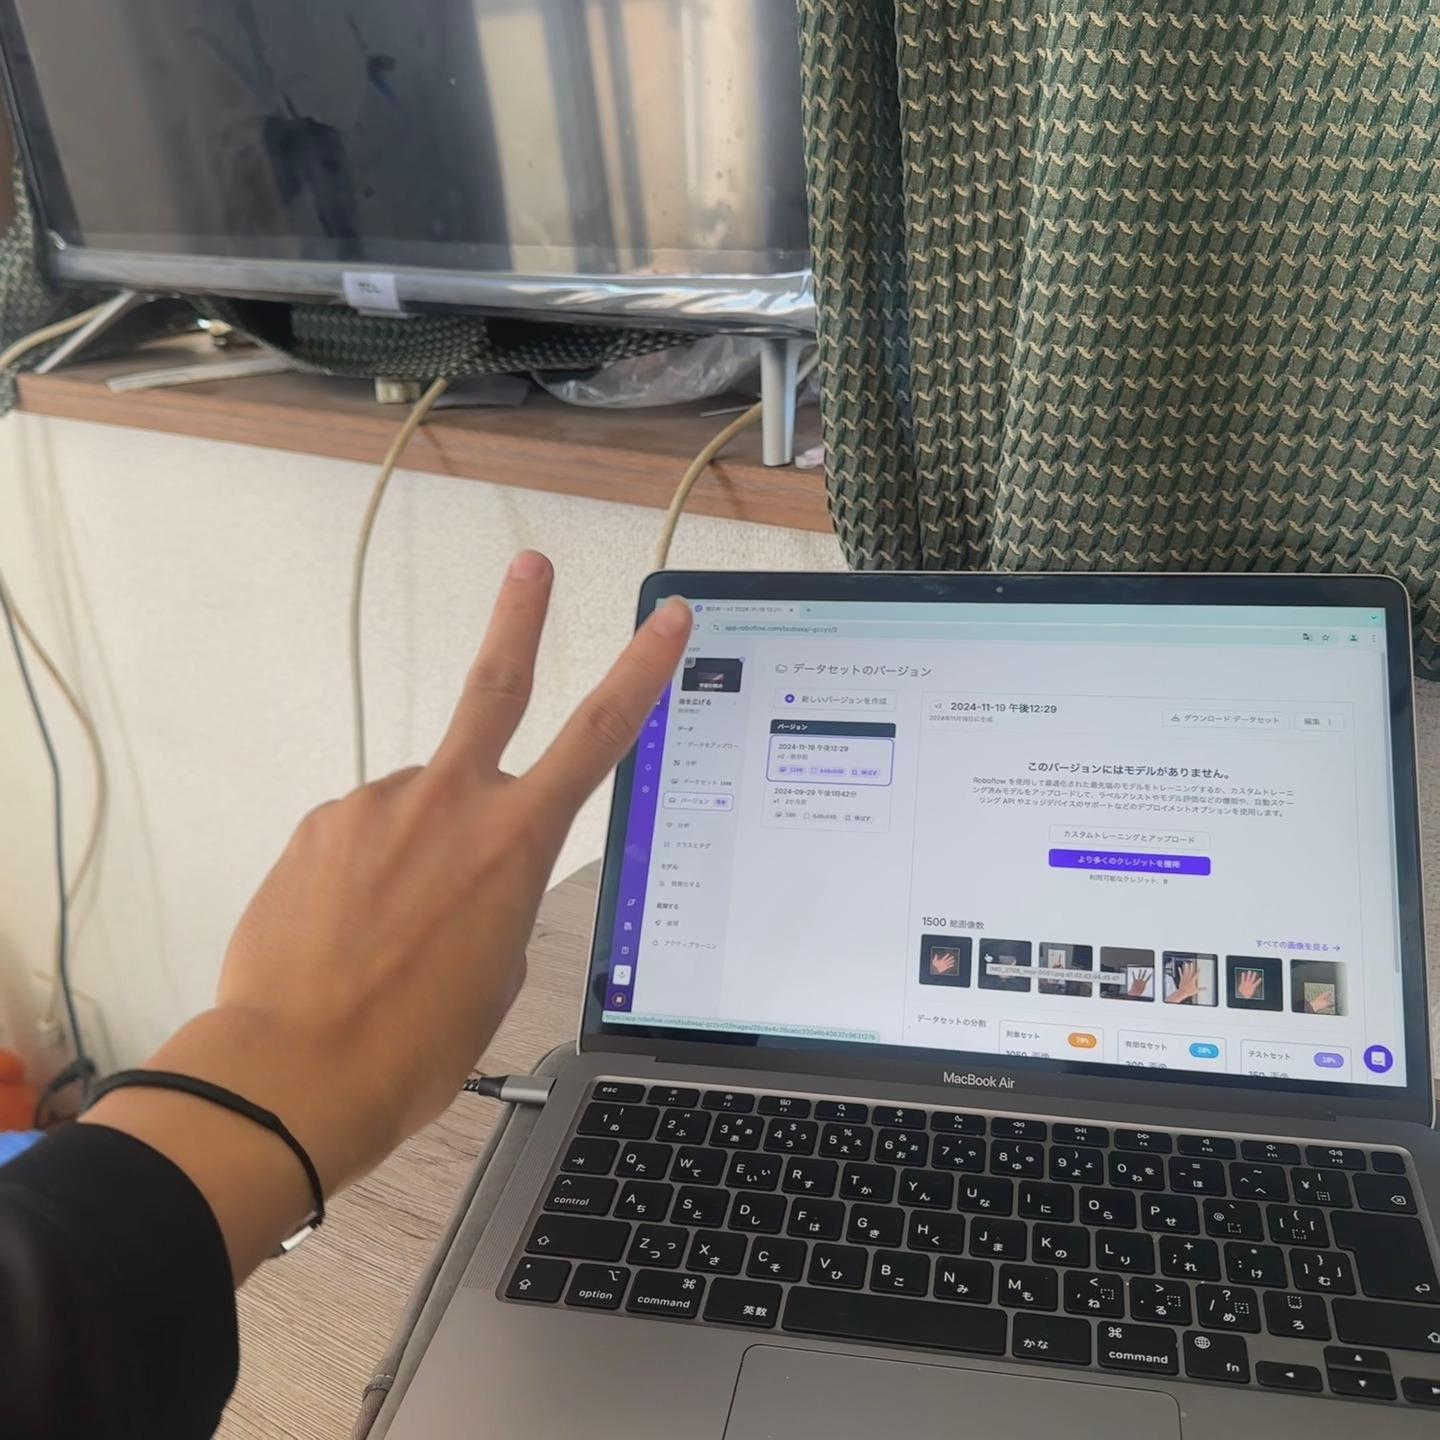without_gloves: (220, 400, 851, 1177)
